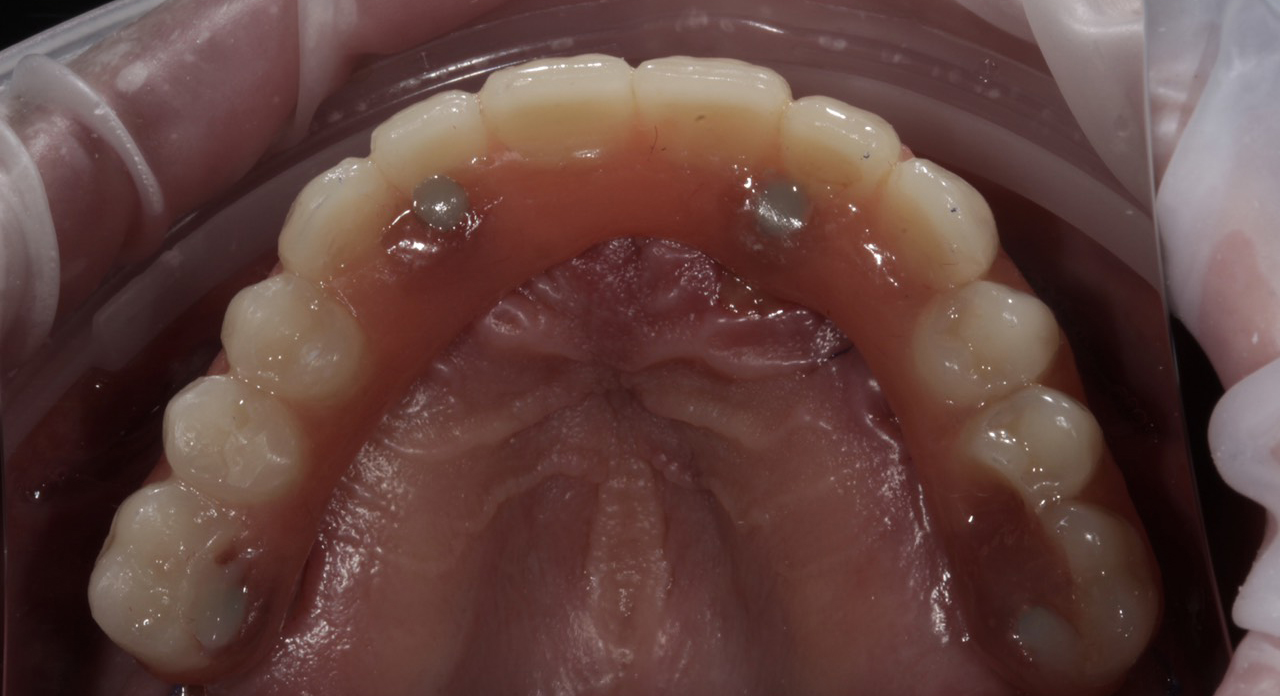UL1BC_healthy: (898, 288, 1063, 400)
UL1M_decay: (1015, 510, 1155, 666)
UL2BC_healthy: (950, 384, 1093, 514)
ULCI_decay: (640, 51, 779, 160)
ULC_decay: (871, 170, 1001, 277)
ULLI_healthy: (785, 105, 891, 172)
UR1BC_healthy: (218, 278, 363, 399)
UR1M_decay: (101, 486, 261, 672)
UR2BC_healthy: (168, 367, 309, 505)
URCI_healthy: (484, 50, 639, 160)
URC_healthy: (285, 154, 391, 277)
URLI_healthy: (371, 99, 486, 176)
